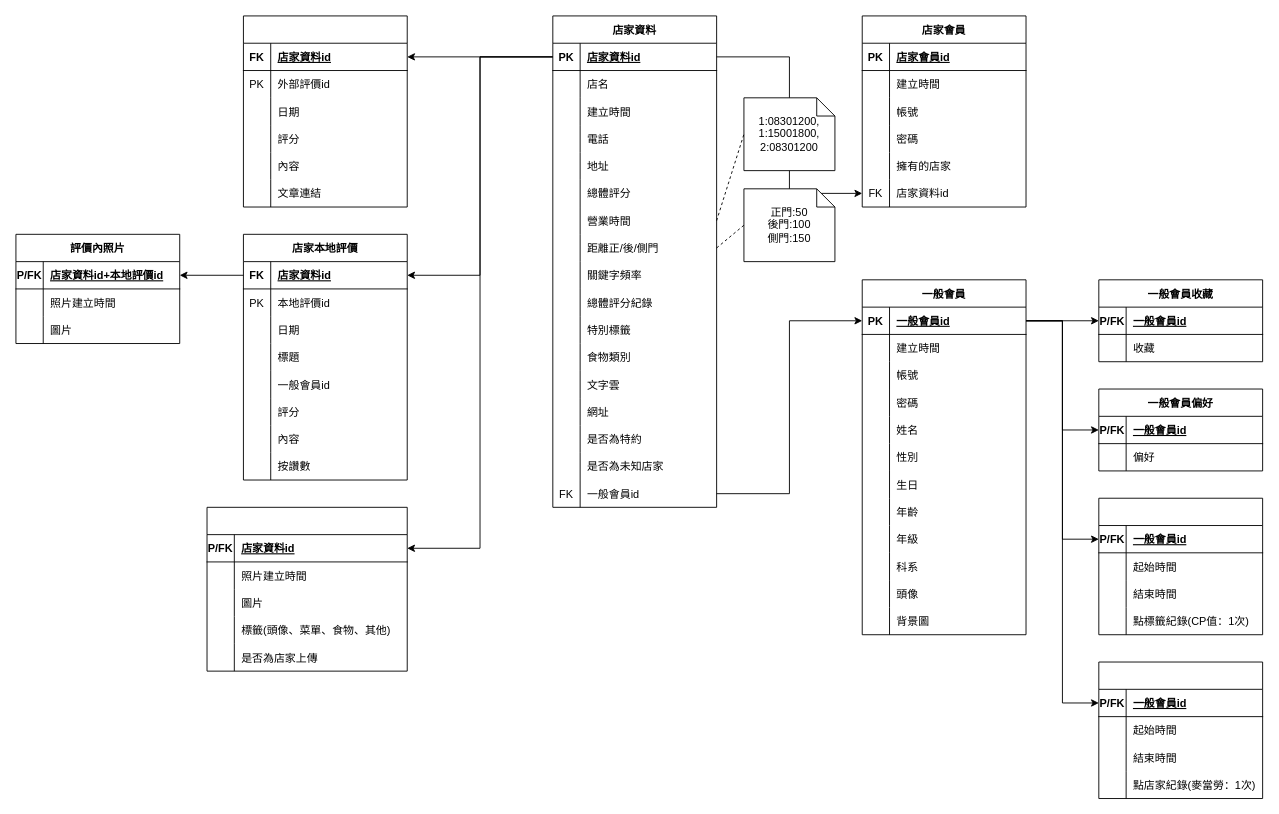
This 1279x814 diagram has some shape labels left out. The box of each missing label's shape, as (x1, y1, x2, y2) in pixels:
一般會員點擊店家紀錄: (1098, 661, 1263, 799)
一般會員點擊標籤紀錄: (1098, 497, 1263, 635)
店家外部評價: (243, 15, 407, 207)
店家照片: (206, 506, 407, 671)
